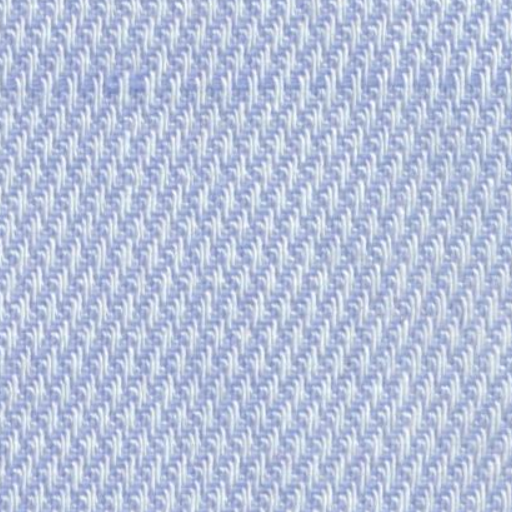TuoSha: (16, 47, 488, 111)
